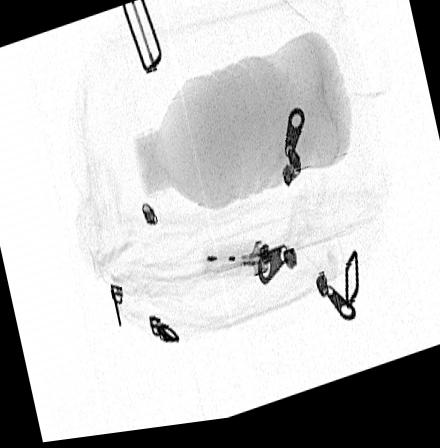Lighter: (200, 245, 272, 286)
